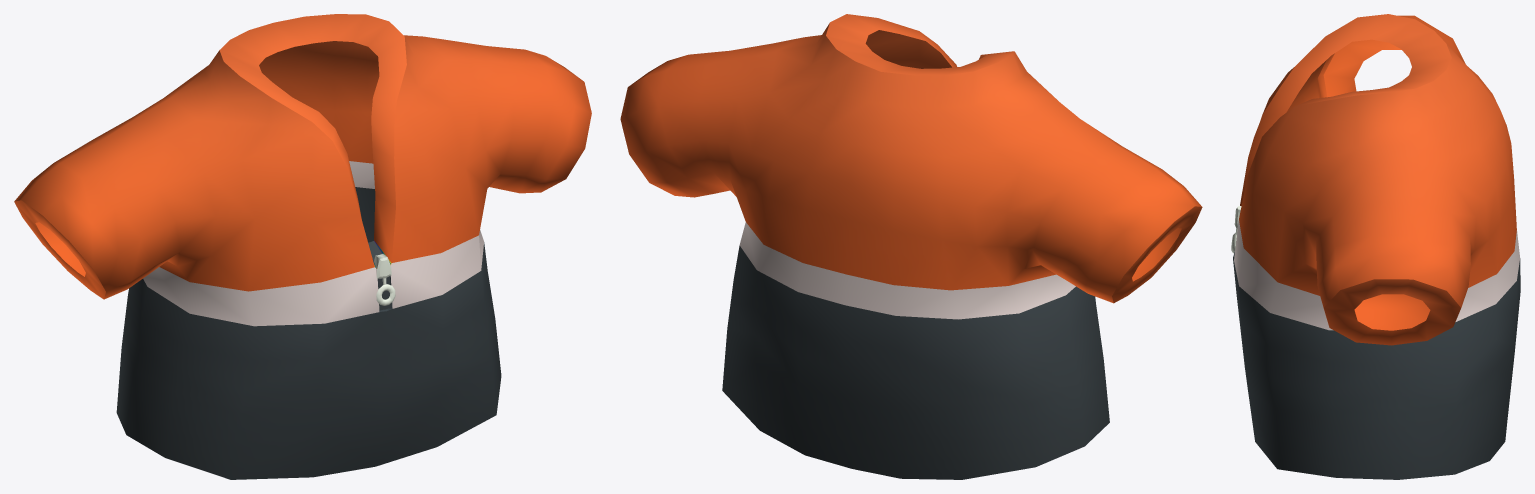
File: Outwear_29.glb
3 renders of one model, left to right at view 1: azimuth 30°, elevation 25°; view 2: azimuth 150°, elevation 25°; view 3: azimuth 270°, elevation 25°, orthographic. The views are drawn at different scales.
Parts seen in each view (by area): view 1: Outwear_29; view 2: Outwear_29; view 3: Outwear_29.
Boxes of the visible parts, left/top/right/bottom form: Outwear_29: left=14, top=14, right=591, bottom=479; Outwear_29: left=620, top=14, right=1202, bottom=479; Outwear_29: left=1231, top=14, right=1520, bottom=479.
Size of the model in its own units: 0.4238 by 0.2843 by 0.2016.
1 material, 1 textured.
